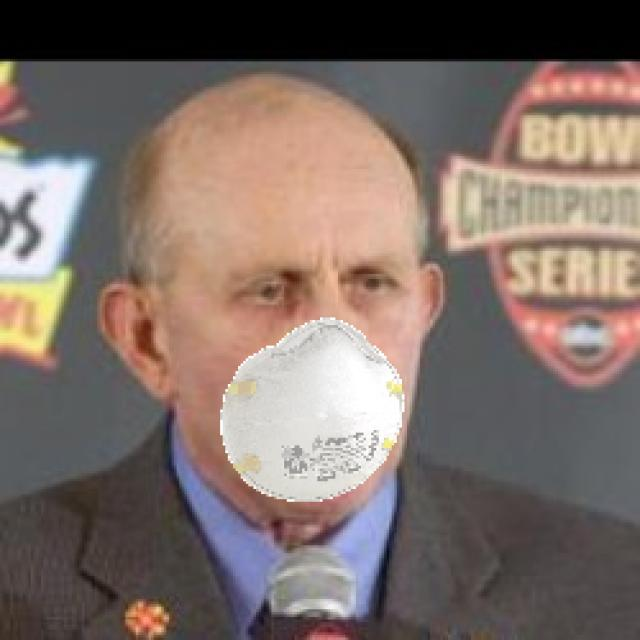mask: (190, 336, 444, 492)
